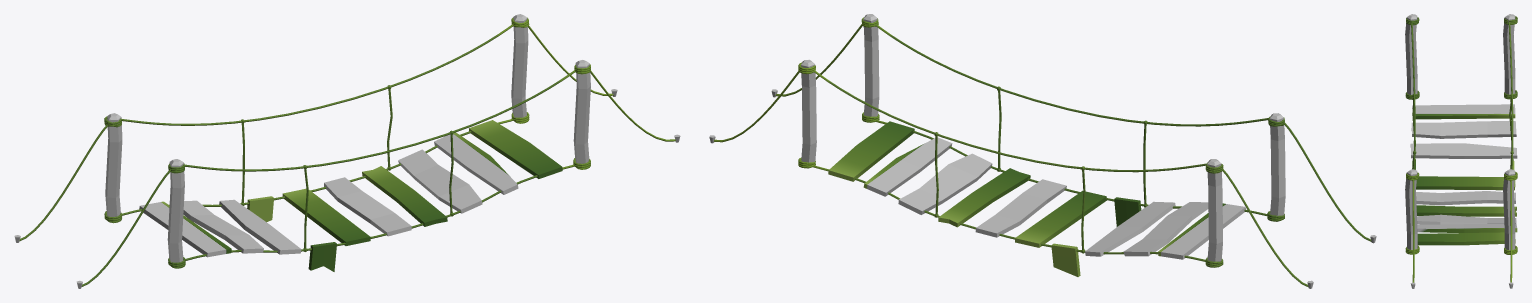
Rendered from Bridge_01.fbx.
The picture shows the model from 3 angles, left to right: view 1: azimuth 30°, elevation 25°; view 2: azimuth 150°, elevation 25°; view 3: azimuth 270°, elevation 25°; orthographic projection. The views are drawn at different scales.
Parts seen in each view (by area): view 1: Bridge_01; view 2: Bridge_01; view 3: Bridge_01.
Part boxes in pixels (x1,y1,x2,y2): Bridge_01: (14,14,680,288); Bridge_01: (709,14,1376,288); Bridge_01: (1405,14,1517,288).
Size of the model in its own units: 18.55 by 4.41 by 3.83.
